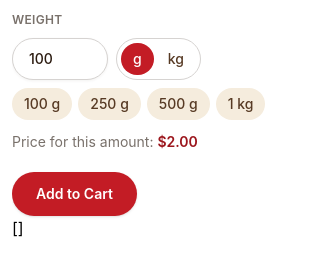
Test: AddToCartControl › shows the live calculated price as the weight changes
Replace the text in the number field named "Weight" with "300": (60, 59) [12,38,108,80]
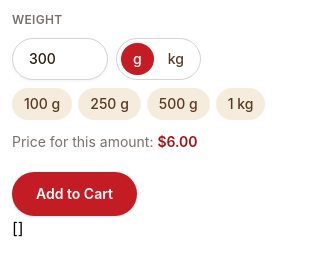
Check: the text "$6.00" is shown, box [157,133,198,150]
